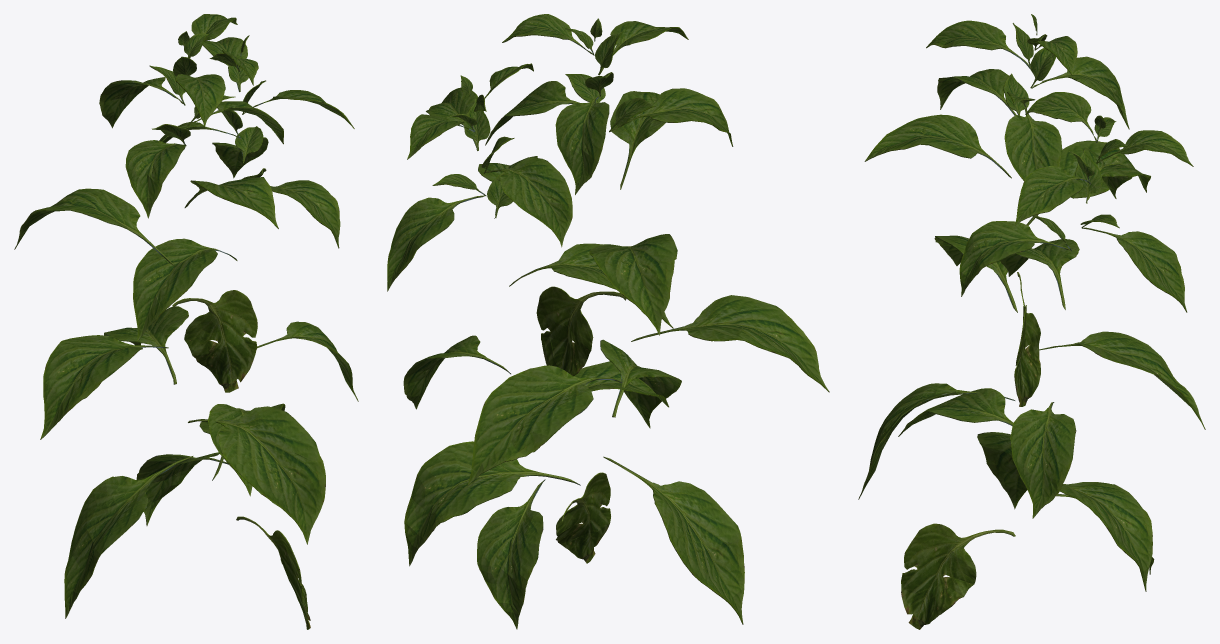
Rendered from VG07_4_leaves.dae.
The picture shows the model from 3 angles, left to right: view 1: azimuth 30°, elevation 25°; view 2: azimuth 150°, elevation 25°; view 3: azimuth 270°, elevation 25°; orthographic projection. The views are drawn at different scales.
Parts seen in each view (by area): view 1: VG07_025; view 2: VG07_025; view 3: VG07_025.
Boxes of the visible parts, bbox=[...] form: VG07_025: bbox=[14, 14, 358, 629]; VG07_025: bbox=[387, 14, 829, 629]; VG07_025: bbox=[858, 14, 1205, 629].
Bounding box in the file's own units: 20.16 × 16.79 × 31.1.
